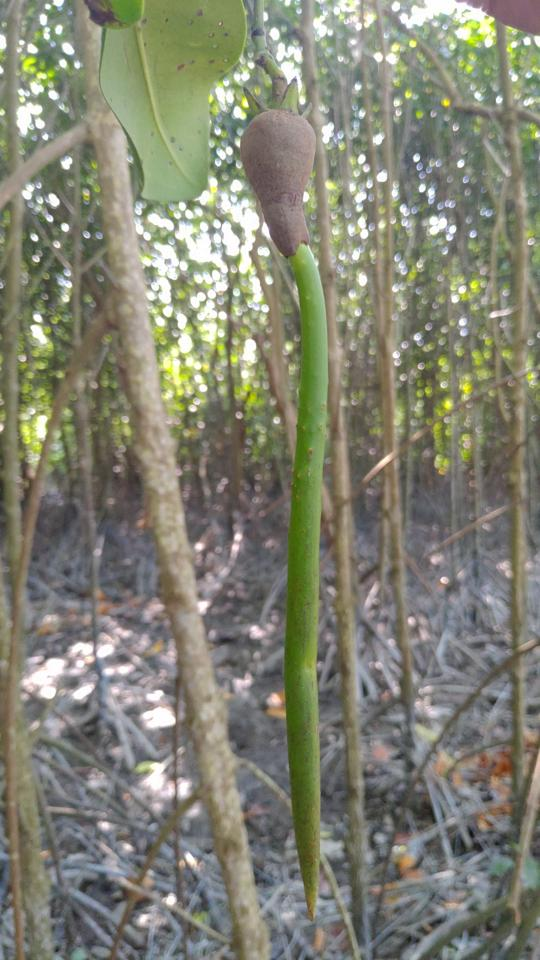mentah: (208, 64, 350, 930)
